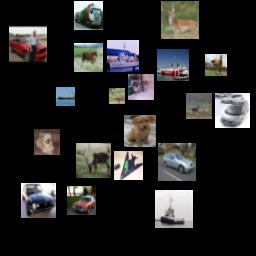airplane: (114, 151, 143, 180)
automobile: (158, 143, 196, 181), (9, 25, 47, 63), (21, 183, 56, 218), (215, 93, 250, 128), (67, 186, 96, 215)
bird: (109, 88, 125, 104)
cat: (128, 74, 154, 100)
deer: (161, 1, 199, 39), (76, 143, 111, 178), (186, 93, 212, 119)
dog: (124, 115, 156, 147), (34, 129, 60, 155)
ship: (155, 190, 193, 228), (157, 49, 189, 81), (107, 40, 139, 72), (56, 87, 75, 106)
truck: (74, 1, 103, 30)
